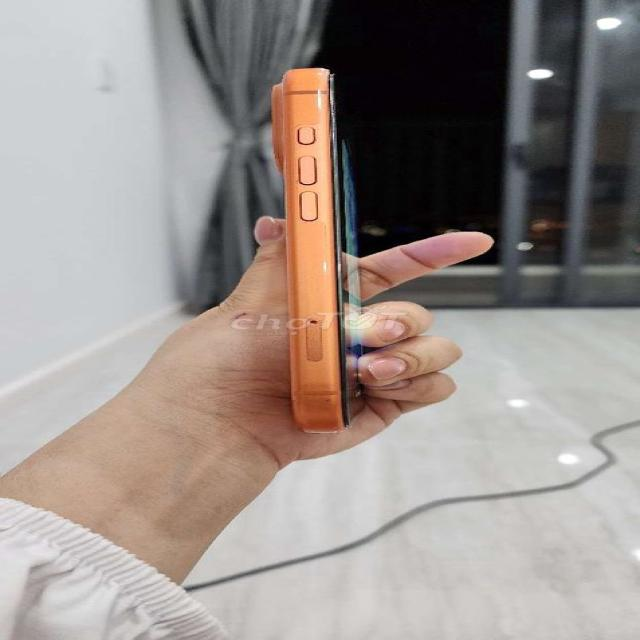gen_17: (240, 57, 401, 441)
physical_damage: (314, 65, 334, 82)
scratch: (312, 253, 341, 282)
